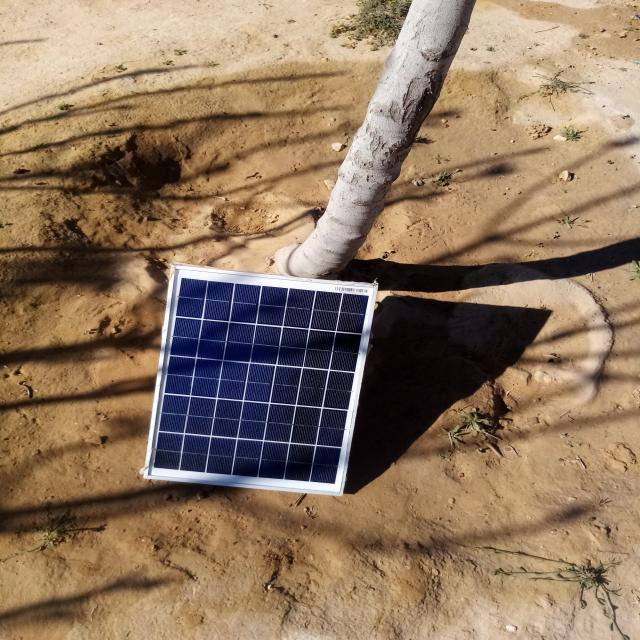no faulty: (143, 266, 378, 496)
